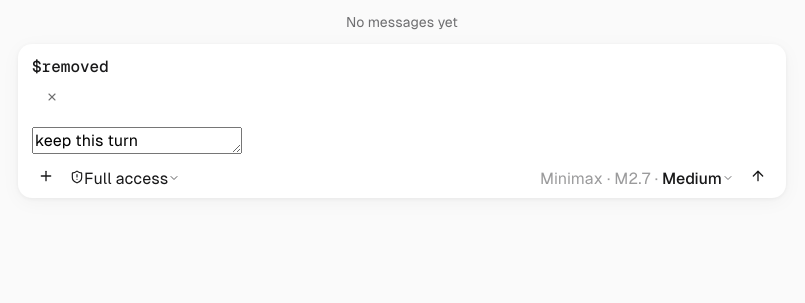
ChatView › drops an invalid entry on refresh when its current draft chip is already absent
Expected: the button "Minimax · M2.7 · Medium" is shown, [534,167,740,190]
Click the button named "send": [758, 178] box [744,167,772,190]
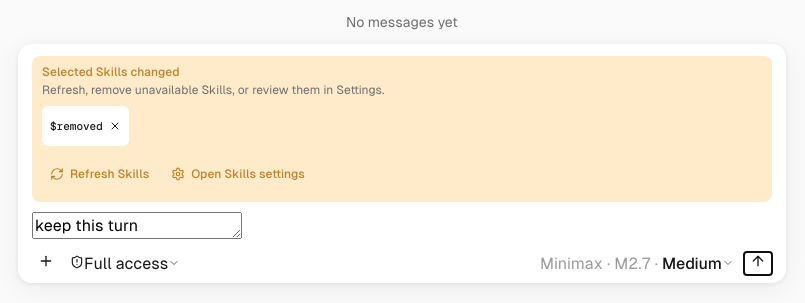
Expected: the button with aria-label "Remove unavailable Skill removed" is shown, [42,106,129,146]
Click the button "Refresh Skills": [100, 174] box [42,154,157,194]
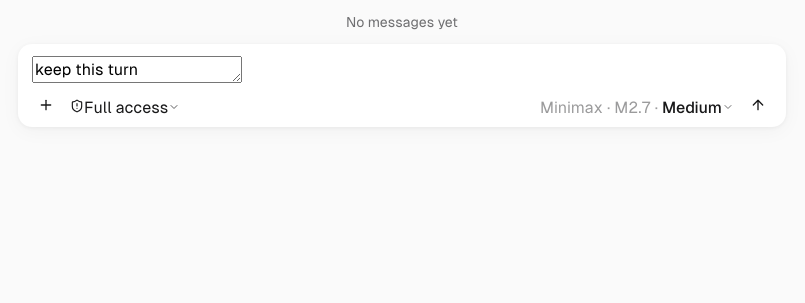
Result: the message is gone
